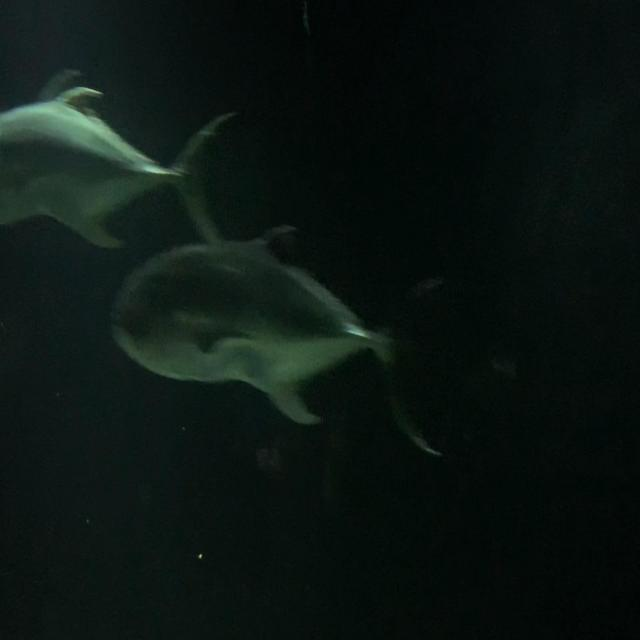fish: (110, 218, 446, 465), (1, 85, 239, 270)
